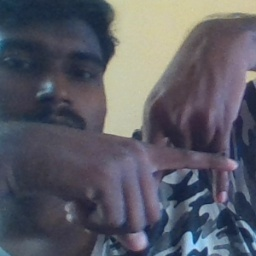H: (122, 87, 245, 227)
